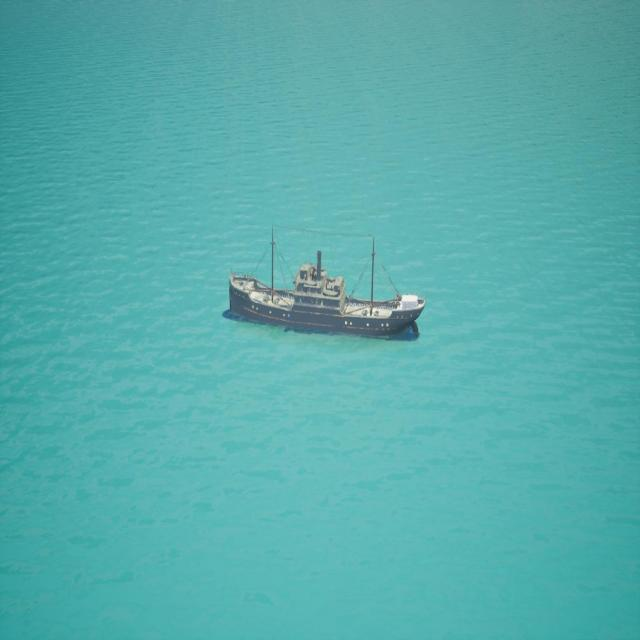fishing ship: (227, 234, 425, 340)
